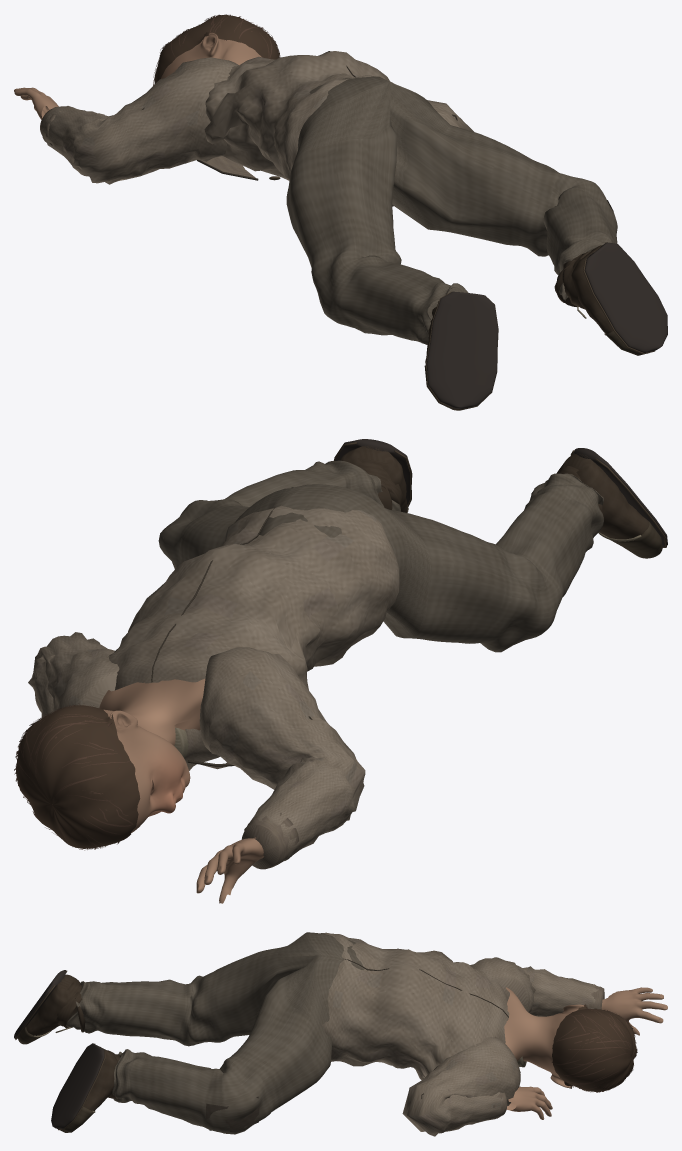
The model's file is wall-child.glb.
The picture shows the model from 3 angles, top to bottom: view 1: azimuth 30°, elevation 25°; view 2: azimuth 150°, elevation 25°; view 3: azimuth 270°, elevation 25°; orthographic projection. The views are drawn at different scales.
Parts seen in each view (by area): view 1: Long corduroy trousers • still pose, Weathered herringbone wool, Layered leather sole, Short side-parted scalp • still pose, MakeHuman • skin • still pose, Scuffed brown boot leather, Wool collar and cuffs, Worn leather welt; view 2: Weathered herringbone wool, Long corduroy trousers • still pose, Short side-parted scalp • still pose, MakeHuman • skin • still pose, Scuffed brown boot leather, Layered leather sole, Combed hair strands • still pose, Wool collar and cuffs, Polished toe and heel leather; view 3: Long corduroy trousers • still pose, Weathered herringbone wool, Short side-parted scalp • still pose, MakeHuman • skin • still pose, Scuffed brown boot leather, Layered leather sole, Combed hair strands • still pose, Hand-sewn repair at right knee • still pose, Polished toe and heel leather, Wool collar and cuffs.
Part boxes in pixels (left/top/right/bottom): Long corduroy trousers • still pose: left=286, top=76, right=617, bottom=344; Weathered herringbone wool: left=42, top=51, right=473, bottom=206; Layered leather sole: left=426, top=242, right=667, bottom=409; Short side-parted scalp • still pose: left=154, top=15, right=279, bottom=83; MakeHuman • skin • still pose: left=14, top=32, right=261, bottom=119; Scuffed brown boot leather: left=425, top=245, right=617, bottom=410; Wool collar and cuffs: left=40, top=106, right=288, bottom=180; Worn leather welt: left=426, top=242, right=654, bottom=409; Weathered herringbone wool: left=28, top=505, right=399, bottom=860; Long corduroy trousers • still pose: left=158, top=460, right=603, bottom=652; Short side-parted scalp • still pose: left=16, top=705, right=140, bottom=848; MakeHuman • skin • still pose: left=52, top=678, right=264, bottom=903; Scuffed brown boot leather: left=340, top=445, right=661, bottom=542; Layered leather sole: left=335, top=439, right=667, bottom=546; Combed hair strands • still pose: left=14, top=703, right=133, bottom=850; Wool collar and cuffs: left=188, top=762, right=298, bottom=869; Polished toe and heel leather: left=406, top=505, right=662, bottom=558; Long corduroy trousers • still pose: left=66, top=932, right=364, bottom=1134; Weathered herringbone wool: left=321, top=932, right=598, bottom=1136; Short side-parted scalp • still pose: left=552, top=1004, right=636, bottom=1091; MakeHuman • skin • still pose: left=504, top=987, right=667, bottom=1119; Scuffed brown boot leather: left=26, top=974, right=119, bottom=1130; Layered leather sole: left=14, top=970, right=104, bottom=1129; Combed hair strands • still pose: left=552, top=1007, right=637, bottom=1092; Hand-sewn repair at right knee • still pose: left=206, top=1096, right=259, bottom=1131; Polished toe and heel leather: left=18, top=1027, right=93, bottom=1132; Wool collar and cuffs: left=489, top=986, right=604, bottom=1119.
Bounding box in the file's own units: 0.4947 × 0.2486 × 1.02.
Materials: 19 (7 with a texture image).
